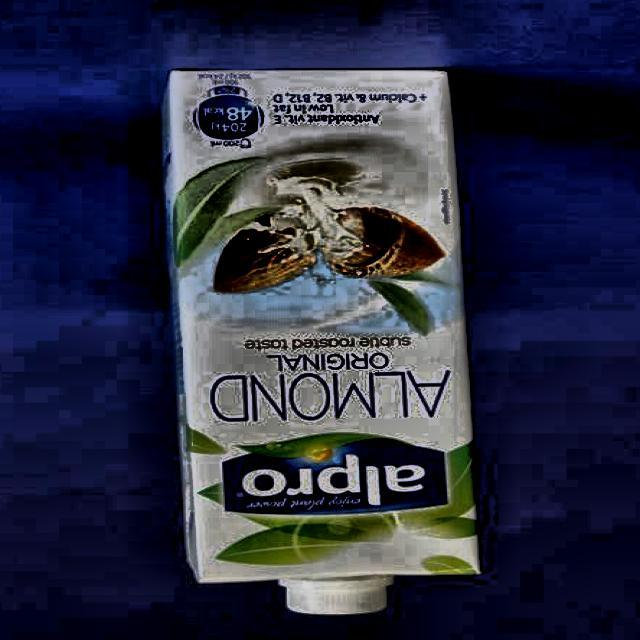cardboard: (160, 69, 483, 614)
